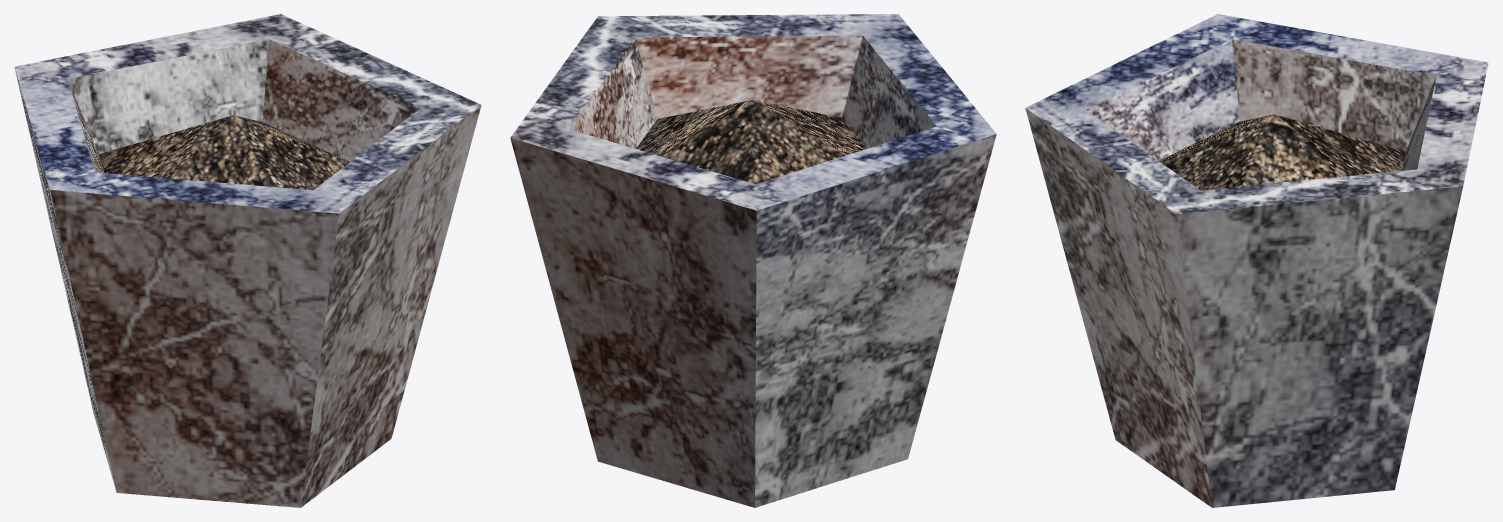
The model's file is PotFleurNul.FBX.
3 views of the same model, side by side, from view 1: azimuth 30°, elevation 25°; view 2: azimuth 150°, elevation 25°; view 3: azimuth 270°, elevation 25° (orthographic). The views are drawn at different scales.
Parts seen in each view (by area): view 1: Cylinder001; view 2: Cylinder001; view 3: Cylinder001.
Boxes of the visible parts, <box> form: Cylinder001: <box>14,14,481,507</box>; Cylinder001: <box>510,14,996,507</box>; Cylinder001: <box>1025,14,1488,507</box>.
Size of the model in its own units: 49.23 by 38.01 by 48.14.
